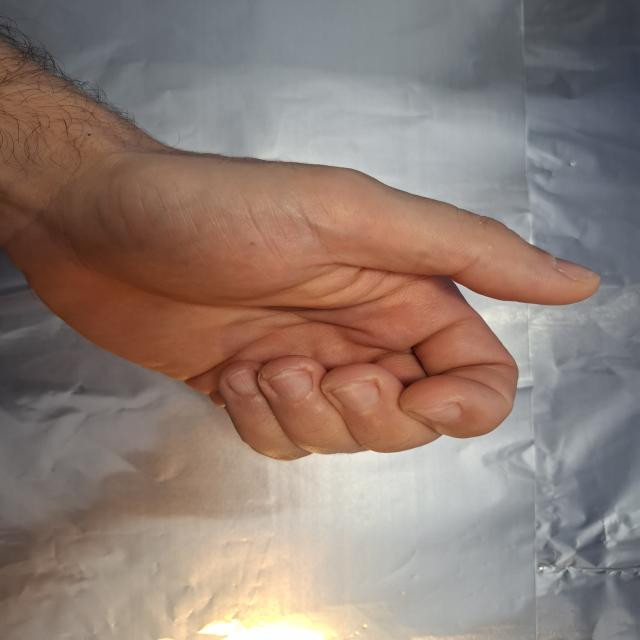glove_off: (29, 114, 610, 464)
